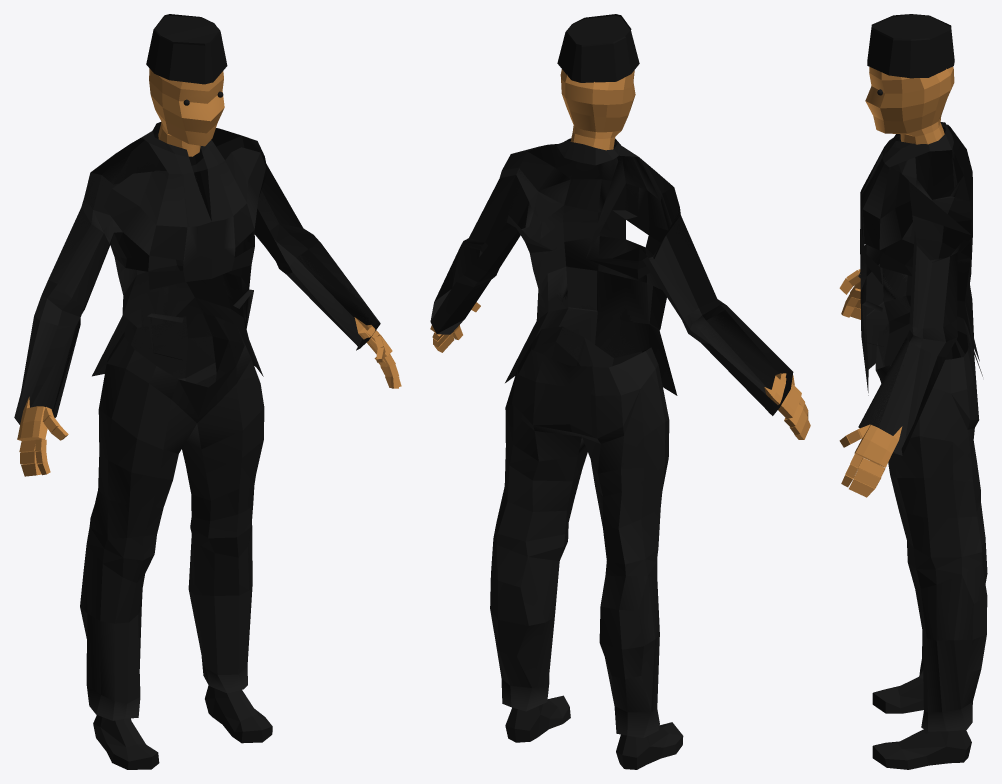
The model's file is Dzaky.fbx.
3 views of the same model, side by side, from view 1: azimuth 30°, elevation 25°; view 2: azimuth 150°, elevation 25°; view 3: azimuth 270°, elevation 25° (orthographic).
Parts seen in each view (by area): view 1: Pants.001, Shirt, Shirt.001, Pants, Body.001, Head, Body.002, Hat.001, Hat; view 2: Pants.001, Shirt.001, Shirt, Pants, Body.001, Head, Hat.001, Body.002, Hat; view 3: Pants.001, Shirt.001, Shirt, Head, Body.001, Hat, Body.002, Pants, Hat.001, Body.005, Body.003.
Boxes of the visible parts, left/top/right/bottom form: Pants.001: left=80, top=314, right=264, bottom=703; Shirt: left=18, top=127, right=380, bottom=417; Shirt.001: left=14, top=122, right=379, bottom=424; Pants: left=86, top=313, right=247, bottom=720; Body.001: left=93, top=685, right=272, bottom=769; Head: left=149, top=68, right=224, bottom=146; Body.002: left=17, top=317, right=401, bottom=476; Hat.001: left=146, top=14, right=219, bottom=84; Hat: left=153, top=14, right=227, bottom=83; Pants.001: left=490, top=327, right=669, bottom=712; Shirt.001: left=434, top=138, right=792, bottom=394; Shirt: left=430, top=138, right=793, bottom=415; Pants: left=501, top=326, right=659, bottom=737; Body.001: left=505, top=695, right=683, bottom=769; Head: left=560, top=69, right=635, bottom=138; Hat.001: left=564, top=15, right=639, bottom=82; Body.002: left=430, top=302, right=810, bottom=439; Hat: left=557, top=14, right=630, bottom=82; Pants.001: left=875, top=316, right=987, bottom=712; Shirt.001: left=858, top=122, right=982, bottom=455; Shirt: left=858, top=123, right=979, bottom=455; Head: left=865, top=66, right=954, bottom=136; Body.001: left=872, top=676, right=971, bottom=769; Hat: left=867, top=14, right=953, bottom=78; Body.002: left=839, top=269, right=902, bottom=497; Pants: left=875, top=312, right=972, bottom=731; Hat.001: left=867, top=14, right=954, bottom=64; Body.005: left=840, top=269, right=882, bottom=495; Body.003: left=900, top=123, right=944, bottom=144.
Bounding box in the file's own units: 868 × 1600 × 303.
